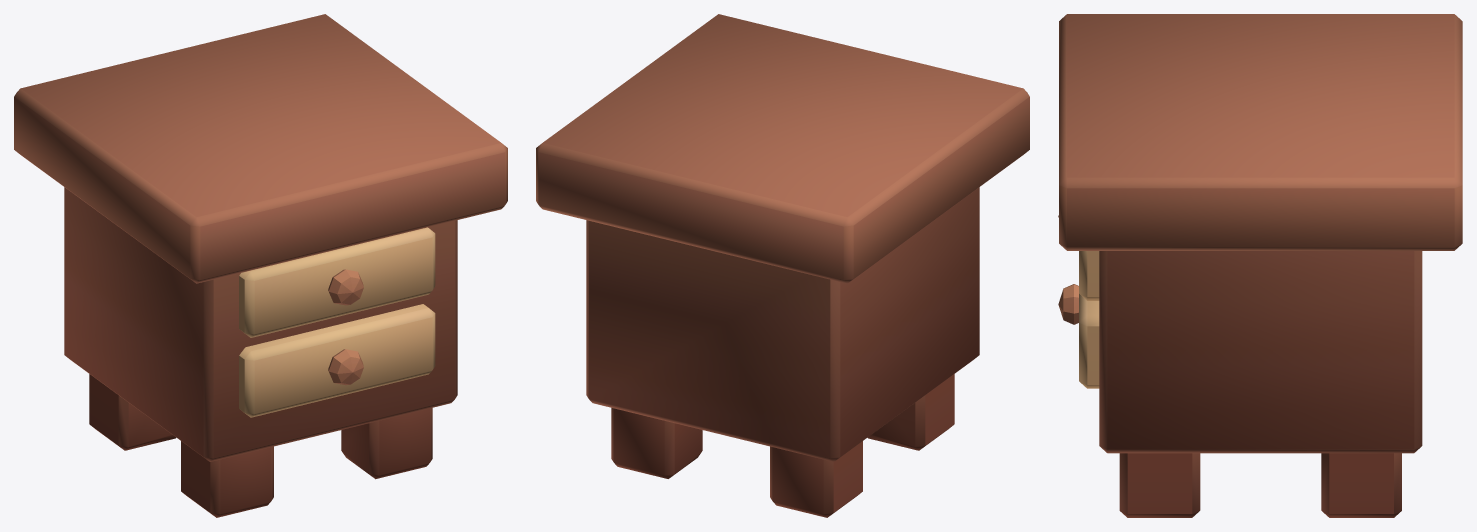
The model's file is cabinet_small.glb.
3 renders of one model, left to right at view 1: azimuth 30°, elevation 25°; view 2: azimuth 150°, elevation 25°; view 3: azimuth 270°, elevation 25°, orthographic. The views are drawn at different scales.
Visible parts, largest first — view 1: cabinet_small; view 2: cabinet_small; view 3: cabinet_small.
Part boxes in pixels (<box>): cabinet_small: <box>14,14,507,517</box>; cabinet_small: <box>536,14,1029,517</box>; cabinet_small: <box>1058,14,1462,517</box>.
Bounding box in the file's own units: 1 × 1 × 1.
Materials: 1 (1 with a texture image).
